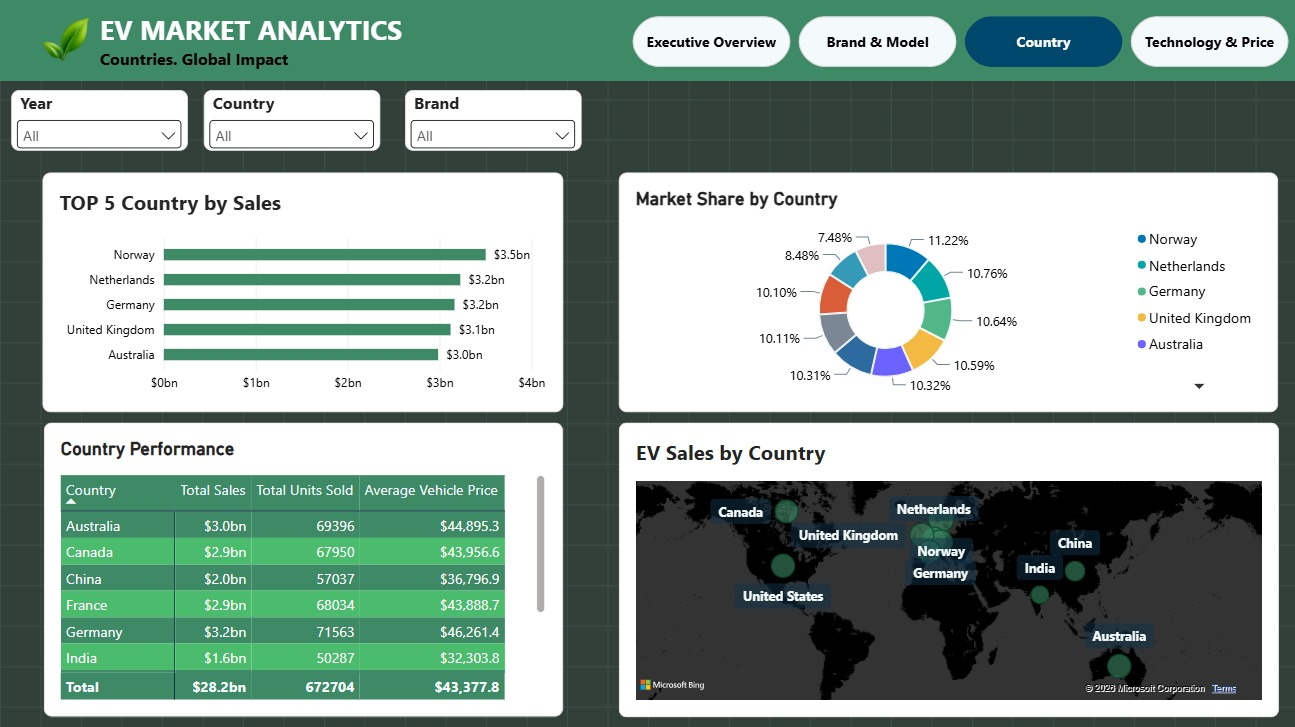

This screenshot's page, from the dashboard's own definition file:
{"tool":"powerbi","page":{"name":"Country","canvas":[1280,720],"ordinal":36},"visuals":[{"type":"shape","box":[0,0,1279,80],"z":0},{"type":"textbox","box":[98.8,11.1,398.8,69.1],"z":1000},{"type":"donutChart","title":"Market Share by Country","fields":{"Category":["Dim_Location.Country"],"Y":["Calculation_Table.Market_Share_%"]},"box":[611.7,170.1,651.5,236.5],"z":2000},{"type":"map","title":"EV Sales By Country","fields":{"Category":["Dim_Location.Country"],"Size":["Calculation_Table.Total_Sales"]},"box":[611.7,416.9,651.9,290.9],"z":3000},{"type":"pivotTable","title":"Country Performance","fields":{"Rows":["Dim_Location.Country"],"Values":["Calculation_Table.Total Sales","Calculation_Table.Total Units Sold","Calculation_Table.Average Vehicle Price"]},"box":[43.4,417.4,512.7,290.8],"z":4000},{"type":"pageNavigator","box":[624.7,15.9,649.2,50.5],"z":5000},{"type":"clusteredBarChart","title":"TOP 5 Country Sales","fields":{"Category":["Dim_Location.Country"],"Y":["Calculation_Table.Total Sales"]},"box":[42.3,170.5,514.1,237.2],"z":6000},{"type":"slicer","fields":{"Values":["Dim_Date.Year"]},"box":[11.1,88.9,174,59.7],"z":7000},{"type":"slicer","fields":{"Values":["Dim_Location.Country"]},"box":[201.2,88.9,174,59.7],"z":8000},{"type":"slicer","fields":{"Values":["Dim_Vehicle.Brand"]},"box":[400,88.9,174,59.7],"z":9000},{"type":"image","box":[0,12.3,230.9,108.6],"z":10000}]}

Visuals, with their boxes in screenshot pixels (x1, y1, x2, y2), scaled from the page's 1280x720 canvas onto the 1295x727 screenshot:
shape: <region>0, 0, 1294, 81</region>
textbox: <region>100, 11, 503, 81</region>
"Market Share by Country" donutChart: <region>619, 172, 1278, 411</region>
"EV Sales By Country" map: <region>619, 421, 1278, 715</region>
"Country Performance" pivotTable: <region>44, 421, 563, 715</region>
pageNavigator: <region>632, 16, 1289, 67</region>
"TOP 5 Country Sales" clusteredBarChart: <region>43, 172, 563, 412</region>
slicer - Dim_Date.Year: <region>11, 90, 187, 150</region>
slicer - Dim_Location.Country: <region>204, 90, 380, 150</region>
slicer - Dim_Vehicle.Brand: <region>405, 90, 581, 150</region>
image: <region>0, 12, 234, 122</region>
